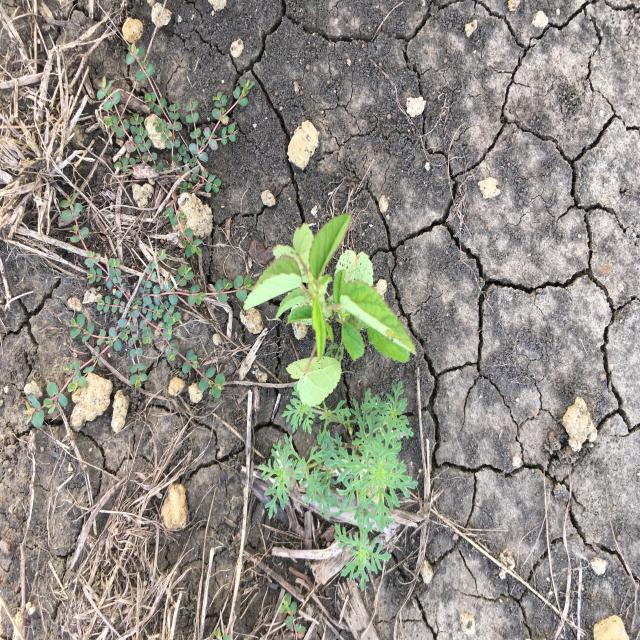PricklySida: (243, 212, 419, 368)
Ragweed: (255, 380, 420, 594)
SpottedSpurge: (21, 192, 253, 432), (96, 41, 256, 195), (278, 592, 307, 639)
